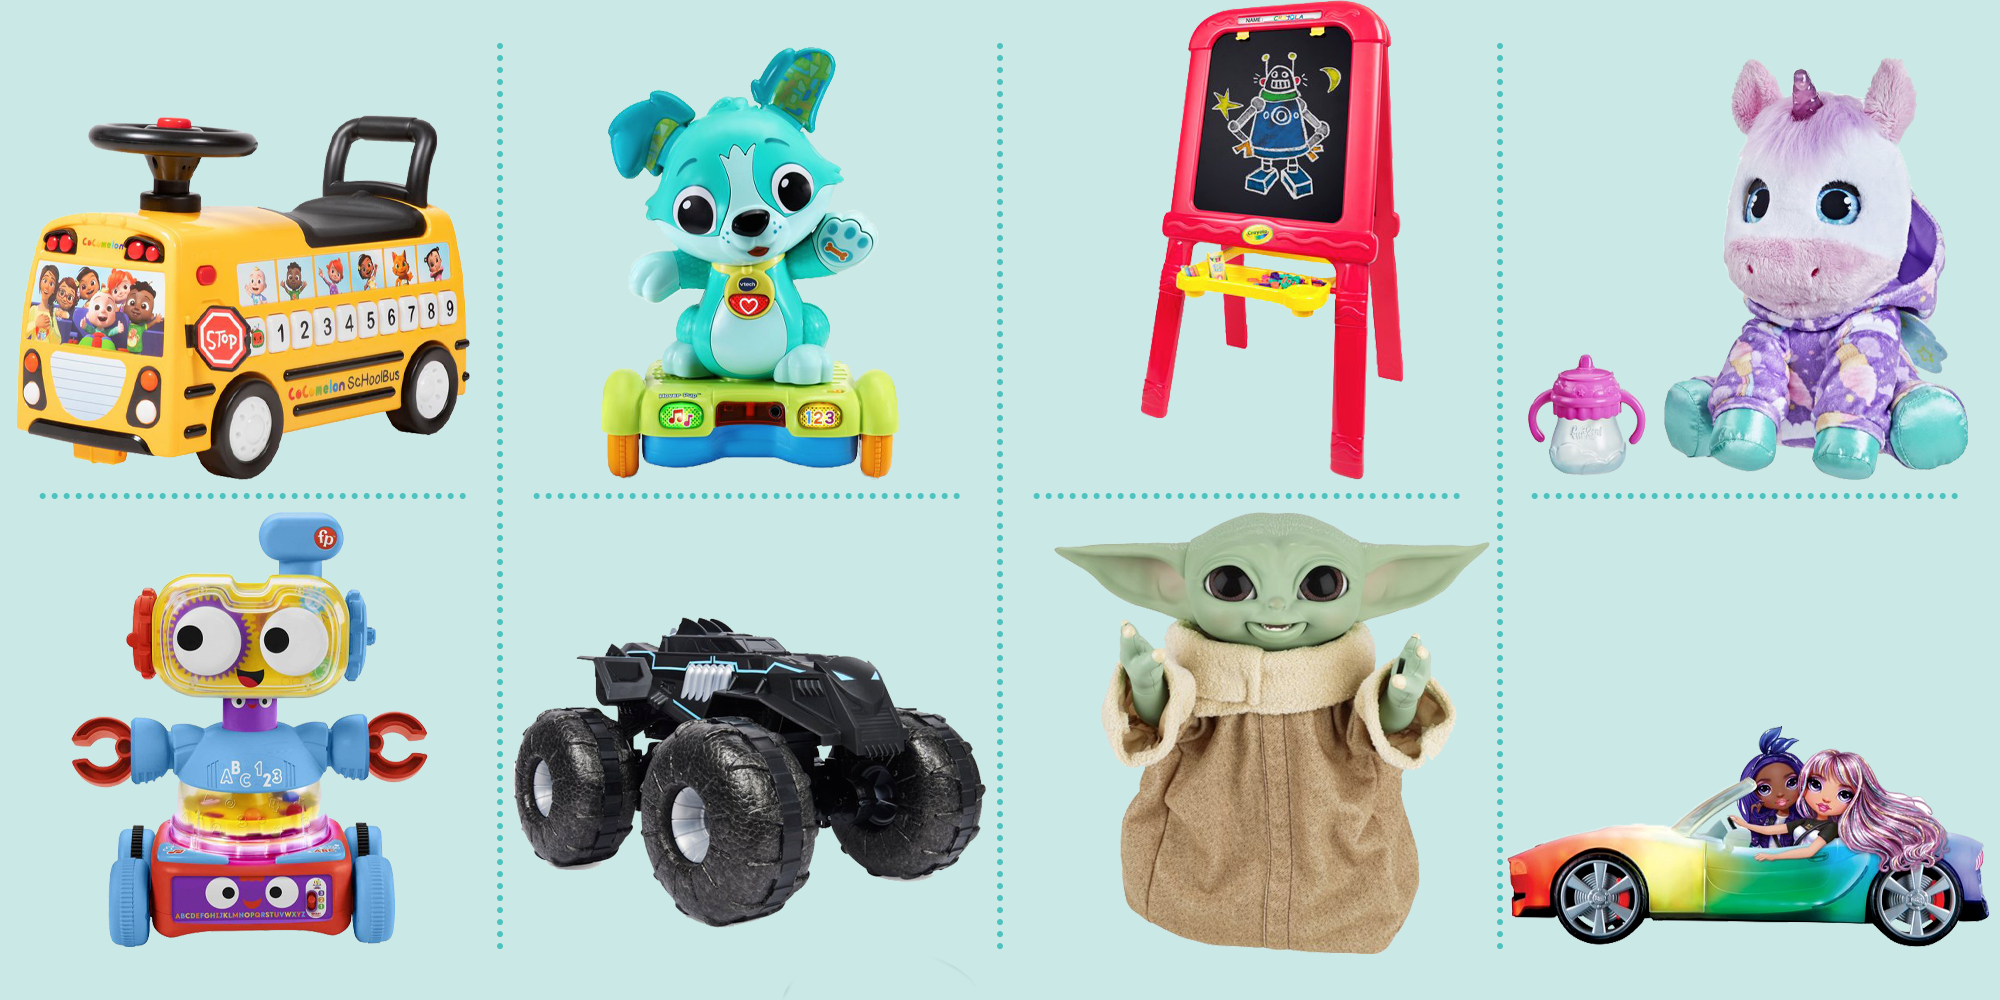toy: (497, 17, 966, 474)
